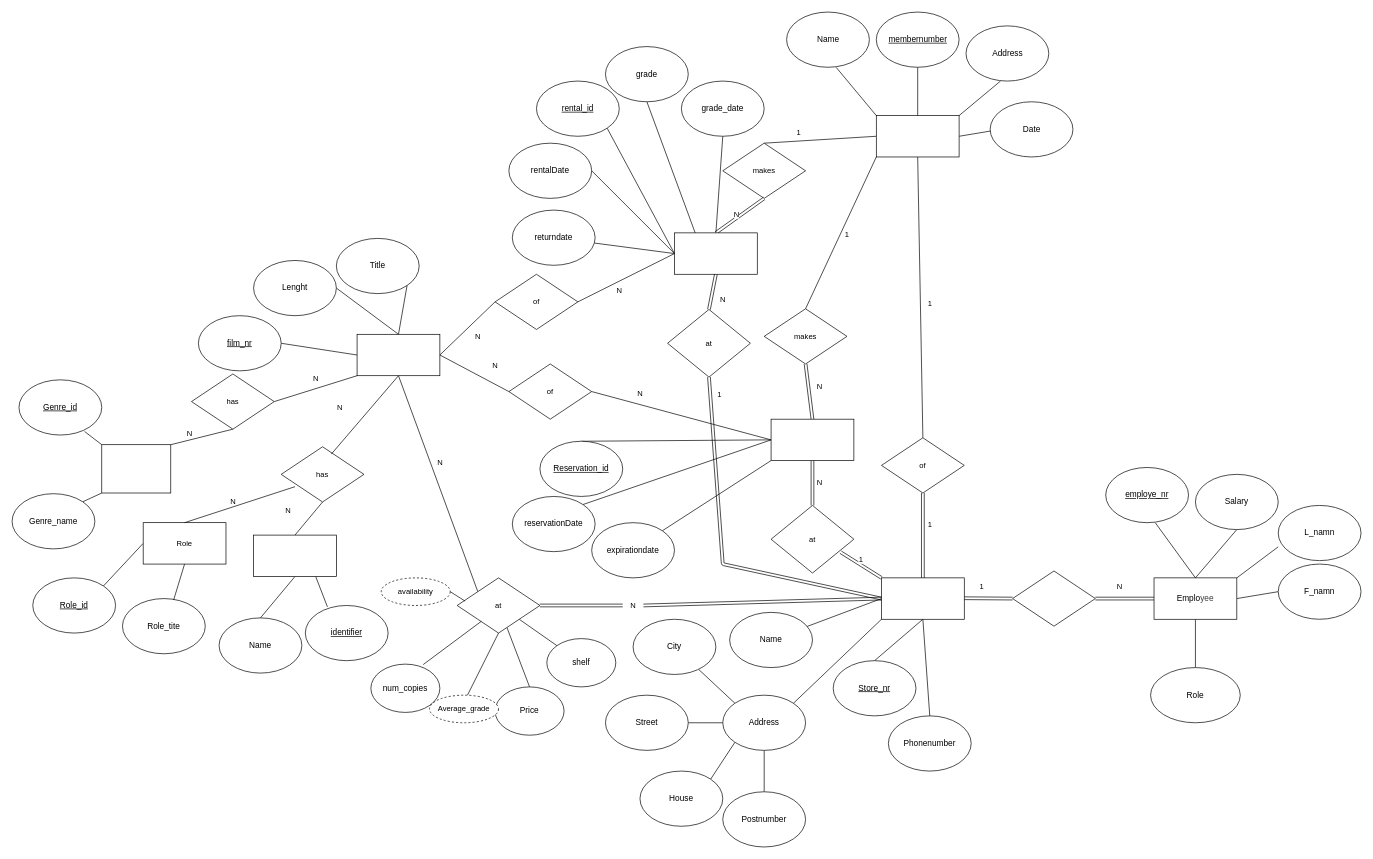
Some shapes in this 1373 by 859 pixel diagram are drawn without their labels. Here are the shapes that lost their labels. From the top down, the box of each, then its label:
(876, 115, 959, 157): Member
(674, 232, 757, 274): Rental
(356, 334, 440, 376): Film
(770, 418, 854, 461): reservation
(101, 444, 171, 493): Genre
(253, 534, 336, 576): Participants
(881, 577, 964, 619): Store
(1012, 570, 1095, 626): Employed at
